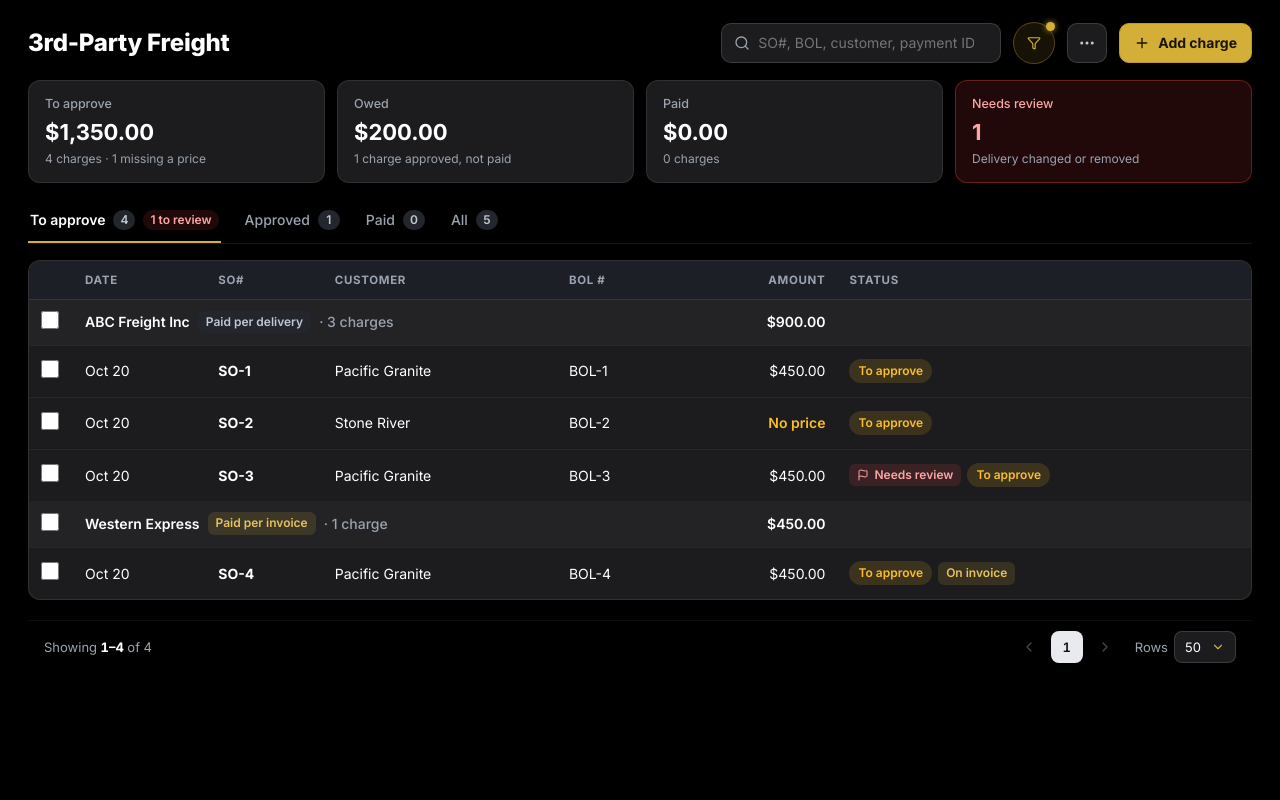
Test: 3rd-Party Freight list › Approve posts the ticked charges and says so
Click the 2nd checkbox with class "fr-chk" at {"x": 50, "y": 369}, box [41, 360, 59, 378]
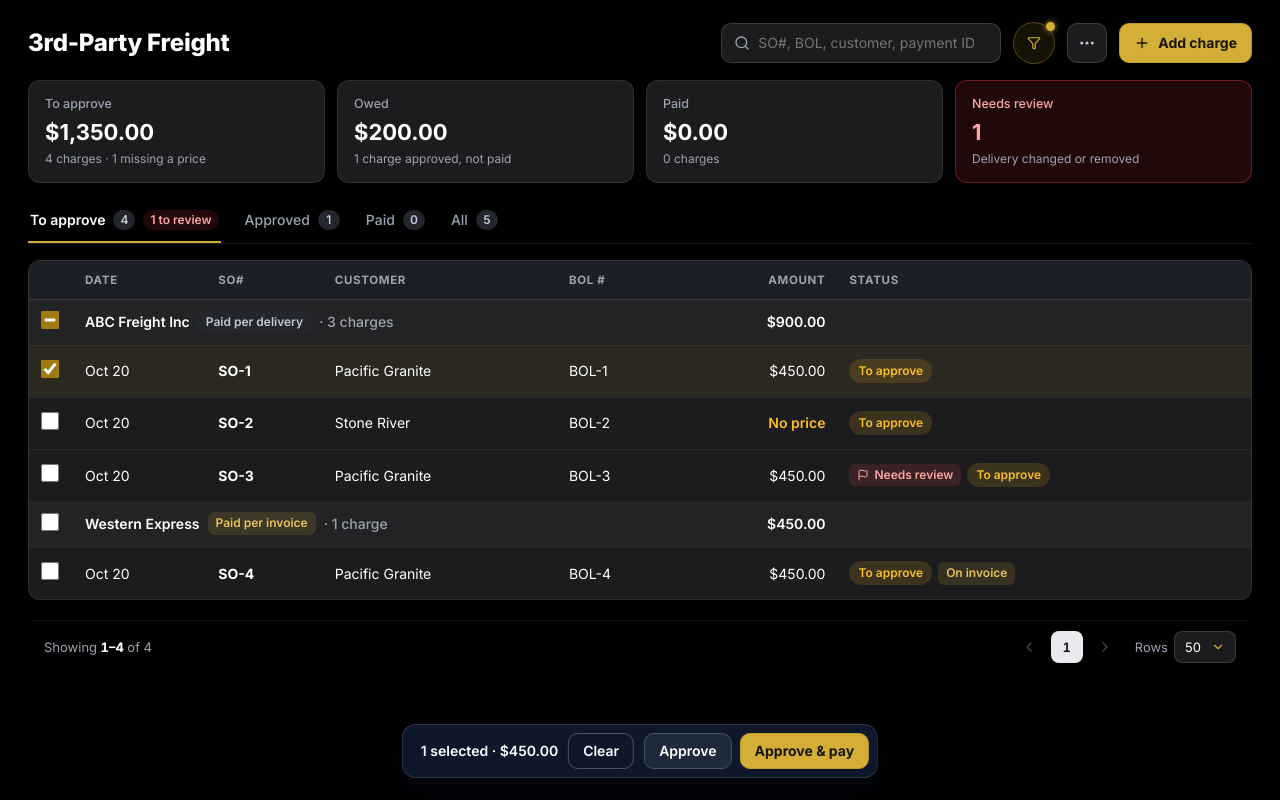
Click the button "Approve" at {"x": 688, "y": 751}, box [644, 733, 732, 769]
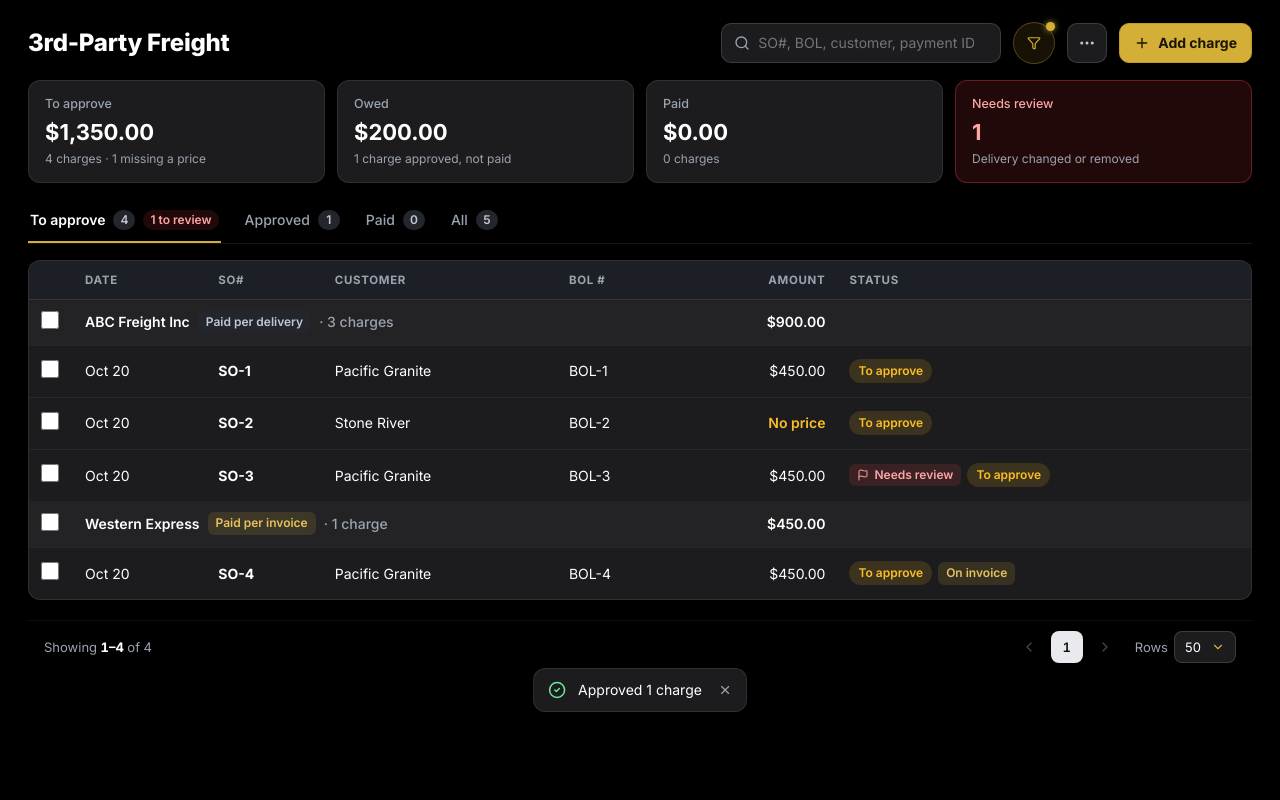
Result: the message with class "fr-toast" reads "Approved 1 charge" at [578, 681, 702, 698]
